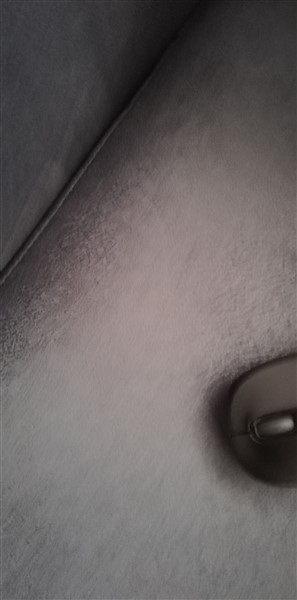mouse: (218, 338, 297, 501)
